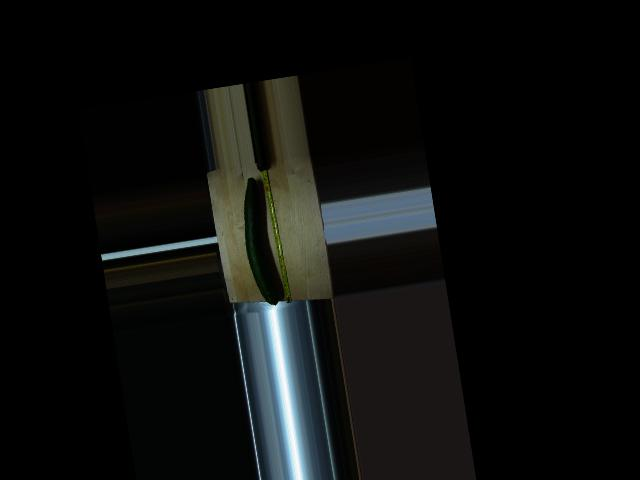cucumber: (235, 175, 280, 308)
